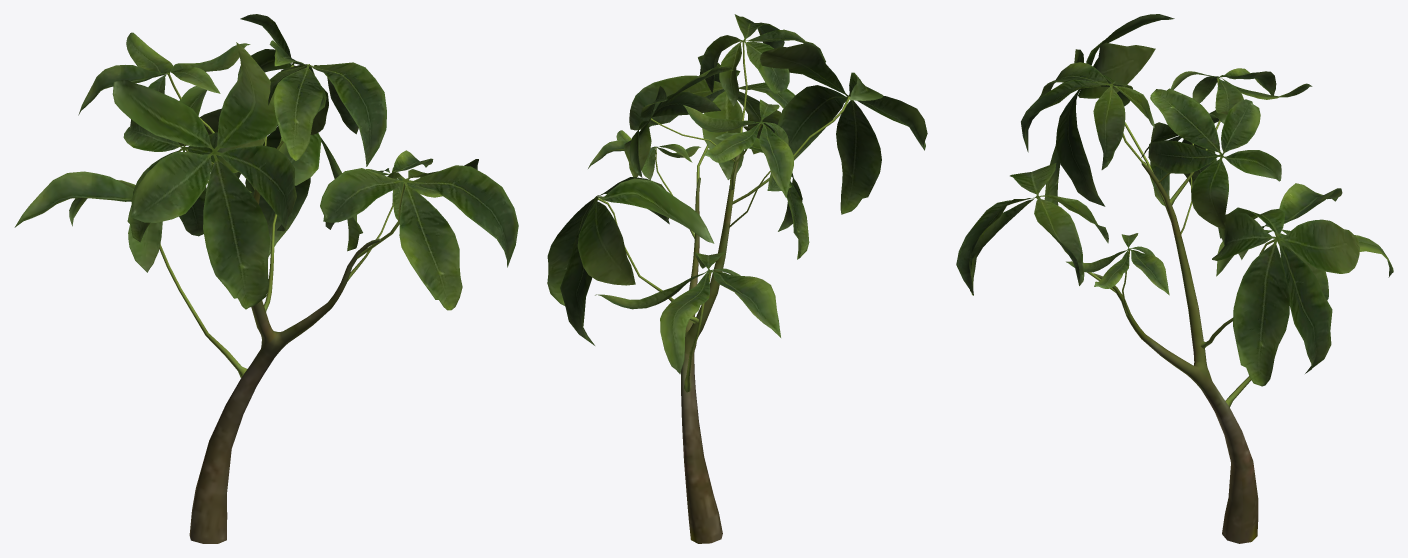
File: pachira.glb
3 views of the same model, side by side, from view 1: azimuth 30°, elevation 25°; view 2: azimuth 150°, elevation 25°; view 3: azimuth 270°, elevation 25° (orthographic). The views are drawn at different scales.
Visible parts, largest first — view 1: pachira_aquatica_01_leaves_b, pachira_aquatica_01_bark_b; view 2: pachira_aquatica_01_leaves_b, pachira_aquatica_01_bark_b; view 3: pachira_aquatica_01_leaves_b, pachira_aquatica_01_bark_b.
Part boxes in pixels (x1,y1,x2,y2): pachira_aquatica_01_leaves_b: (14,14,518,377); pachira_aquatica_01_bark_b: (189,189,380,543); pachira_aquatica_01_leaves_b: (547,14,927,392); pachira_aquatica_01_bark_b: (681,154,739,543); pachira_aquatica_01_leaves_b: (956,14,1393,407); pachira_aquatica_01_bark_b: (1093,161,1258,543).
Size of the model in its own units: 1.1 by 1.6 by 1.32.
2 materials, 2 textured.
